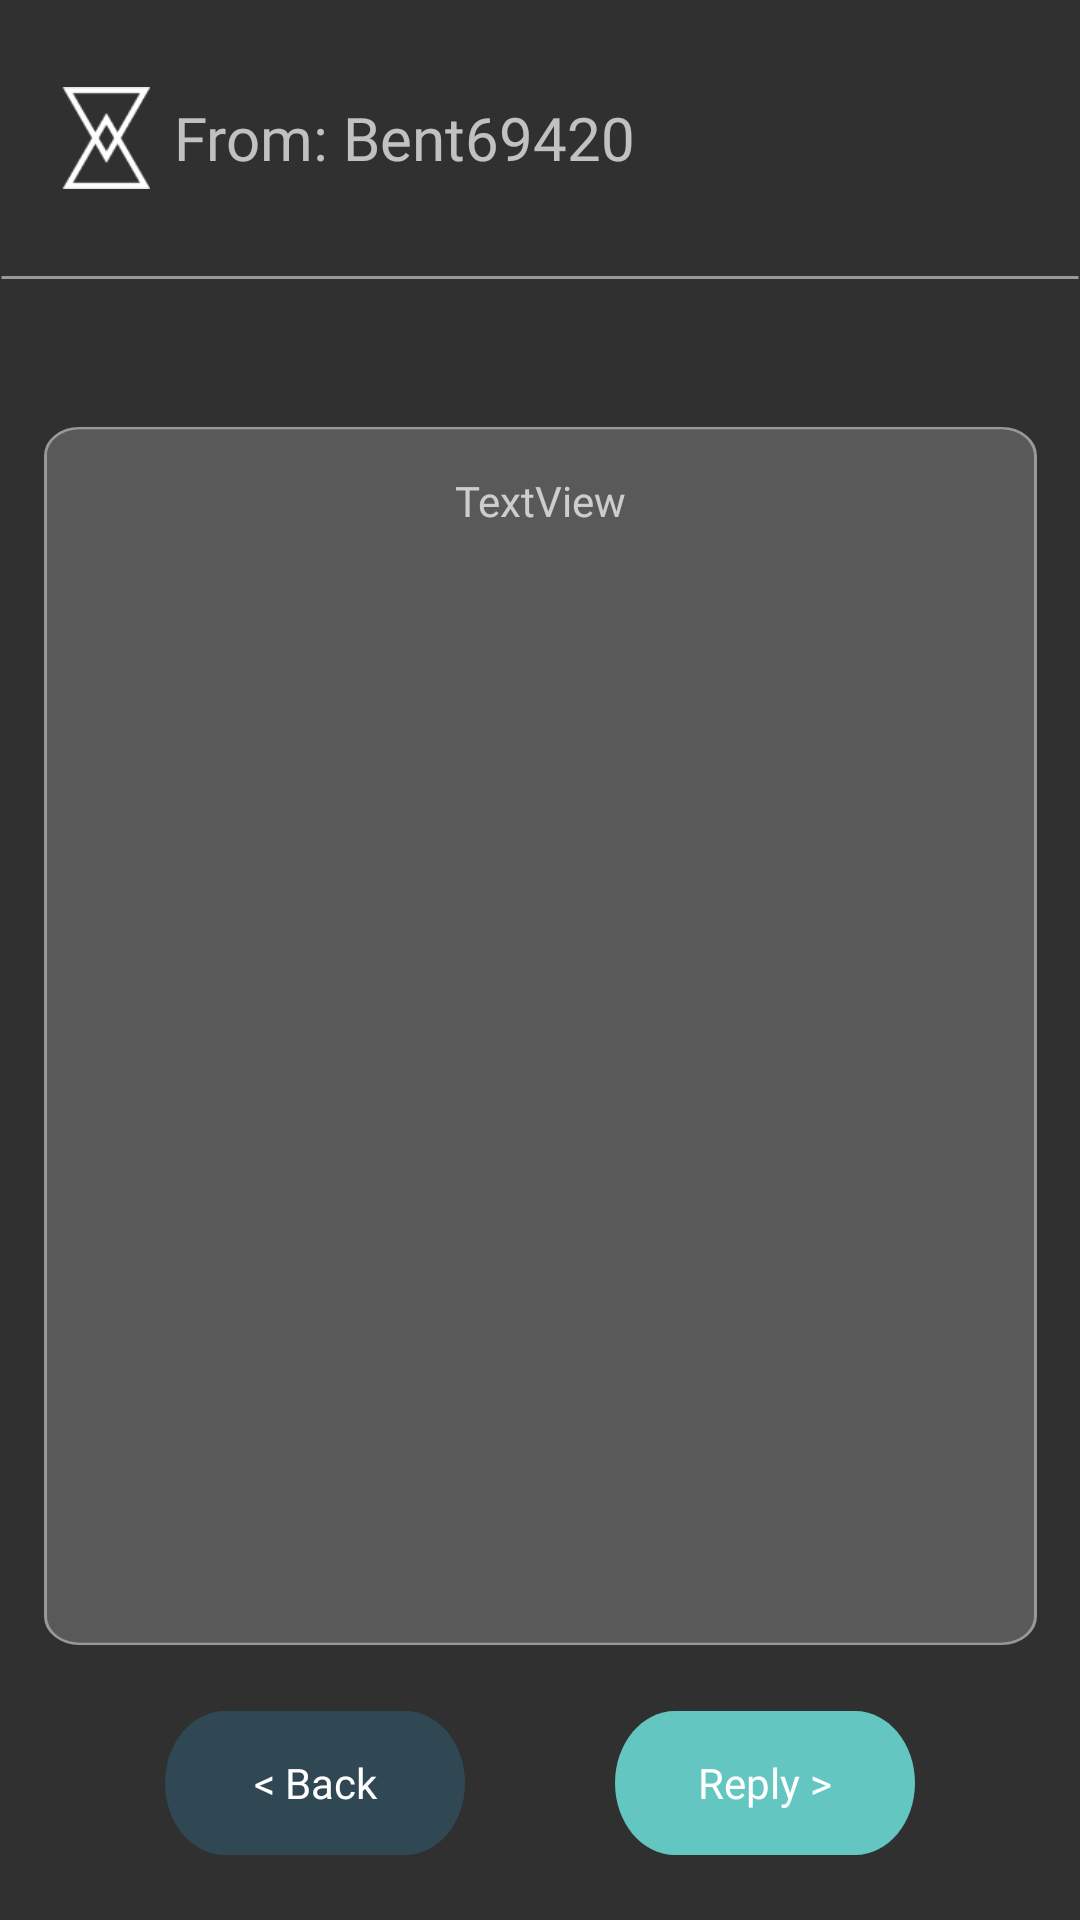

Icons on this 1080 × 1920 Android screen, each with its box as {"left": x1, "top": y1, "right": x2, "bottom": y2}:
hourglass: {"left": 62, "top": 87, "right": 150, "bottom": 189}
